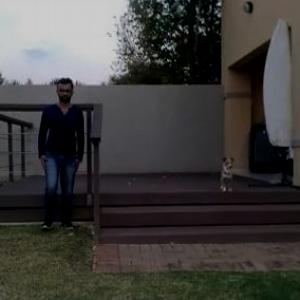follow: (35, 75, 83, 230)
